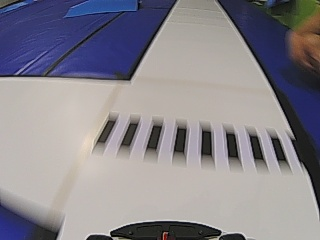CrossWalk: (97, 118, 287, 163)
